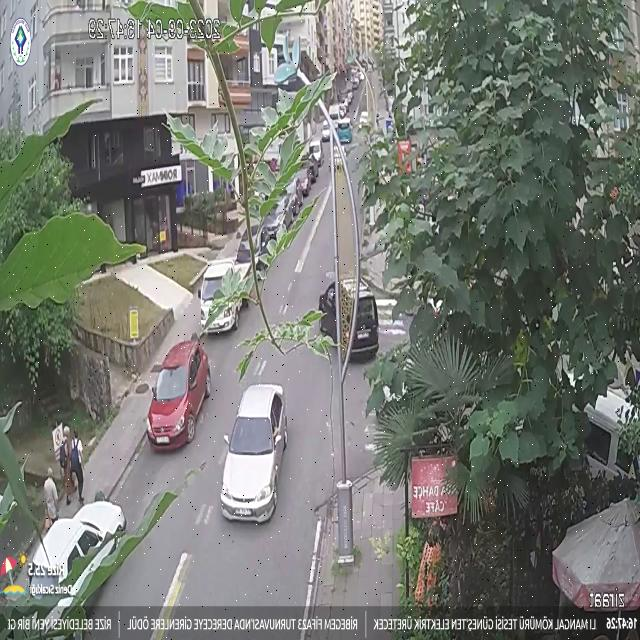car: (216, 378, 286, 530), (147, 335, 211, 455)
